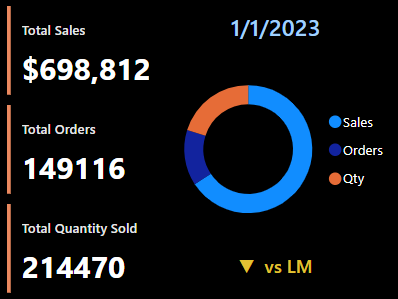

This screenshot's page, from the dashboard's own definition file:
{"tool":"powerbi","page":{"name":"Tool Tip-Calendar Chart","canvas":[320,240],"ordinal":1},"visuals":[{"type":"cardVisual","fields":{"Data":["Key Measures.Total Sales","Key Measures.Total Orders","Key Measures.Total Quantity Sold"]},"box":[0,0,165,240],"z":0},{"type":"donutChart","fields":{"Y":["Key Measures.Total Sales","Key Measures.Total Orders","Key Measures.Total Quantity Sold"]},"box":[129,48,191,143],"z":1000},{"type":"card","fields":{"Values":["Min(Date Table.Date)"]},"box":[120,0,200,48],"z":2000},{"type":"card","fields":{"Values":["Key Measures.MoM Growth & Sales Diff"]},"box":[120,191,200,48],"z":3000}]}

Visuals, with their boxes in screenshot pixels (x1, y1, x2, y2), scaled from the page's 320x240 canvas onto the 398x299 screenshot:
cardVisual - Key Measures.Total Sales x Key Measures.Total Orders: rect(0, 0, 205, 298)
donutChart - Key Measures.Total Sales x Key Measures.Total Orders: rect(160, 60, 397, 238)
card - Min(Date Table.Date): rect(149, 0, 397, 60)
card - Key Measures.MoM Growth & Sales Diff: rect(149, 238, 397, 298)
